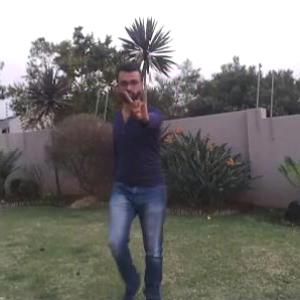takeoff-hand: (116, 82, 157, 123)
